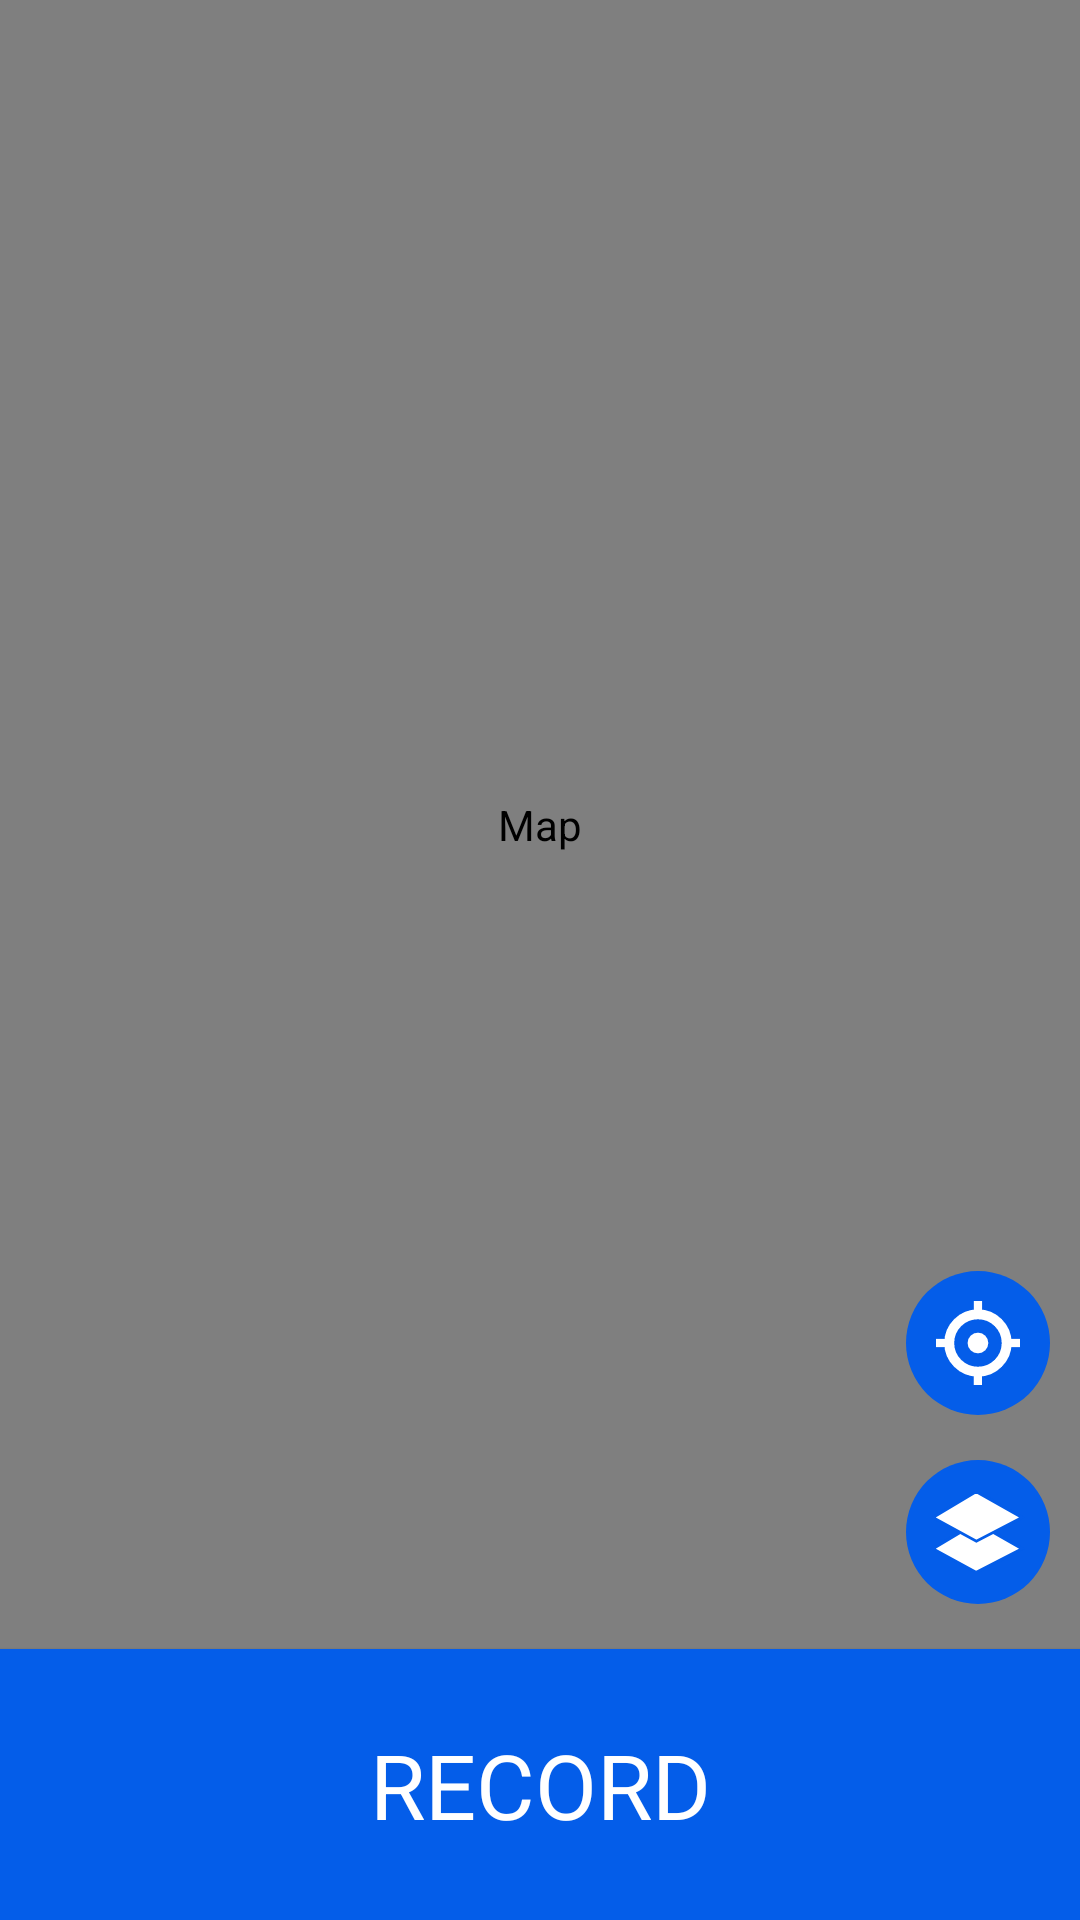

Locate icon controls on the screen. Image size 1080w x 1920h, boxes as (x1, y1, x2, y2).
Focus Location: (906, 1271, 1050, 1415)
Map Style: (906, 1460, 1050, 1604)
